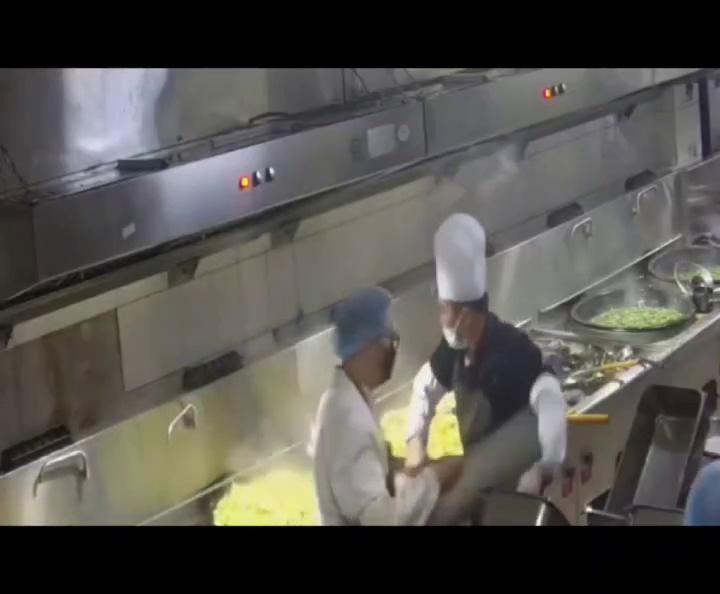mask: (436, 313, 481, 345)
